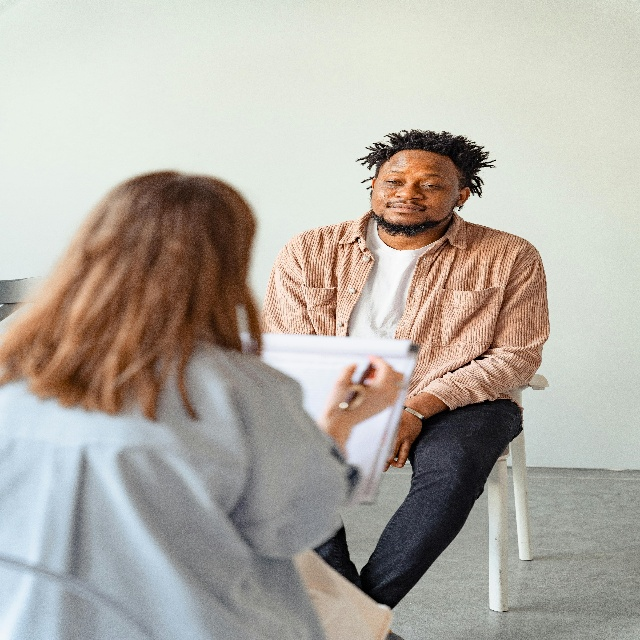Sin_guantes: (327, 353, 405, 431), (381, 394, 423, 475)
